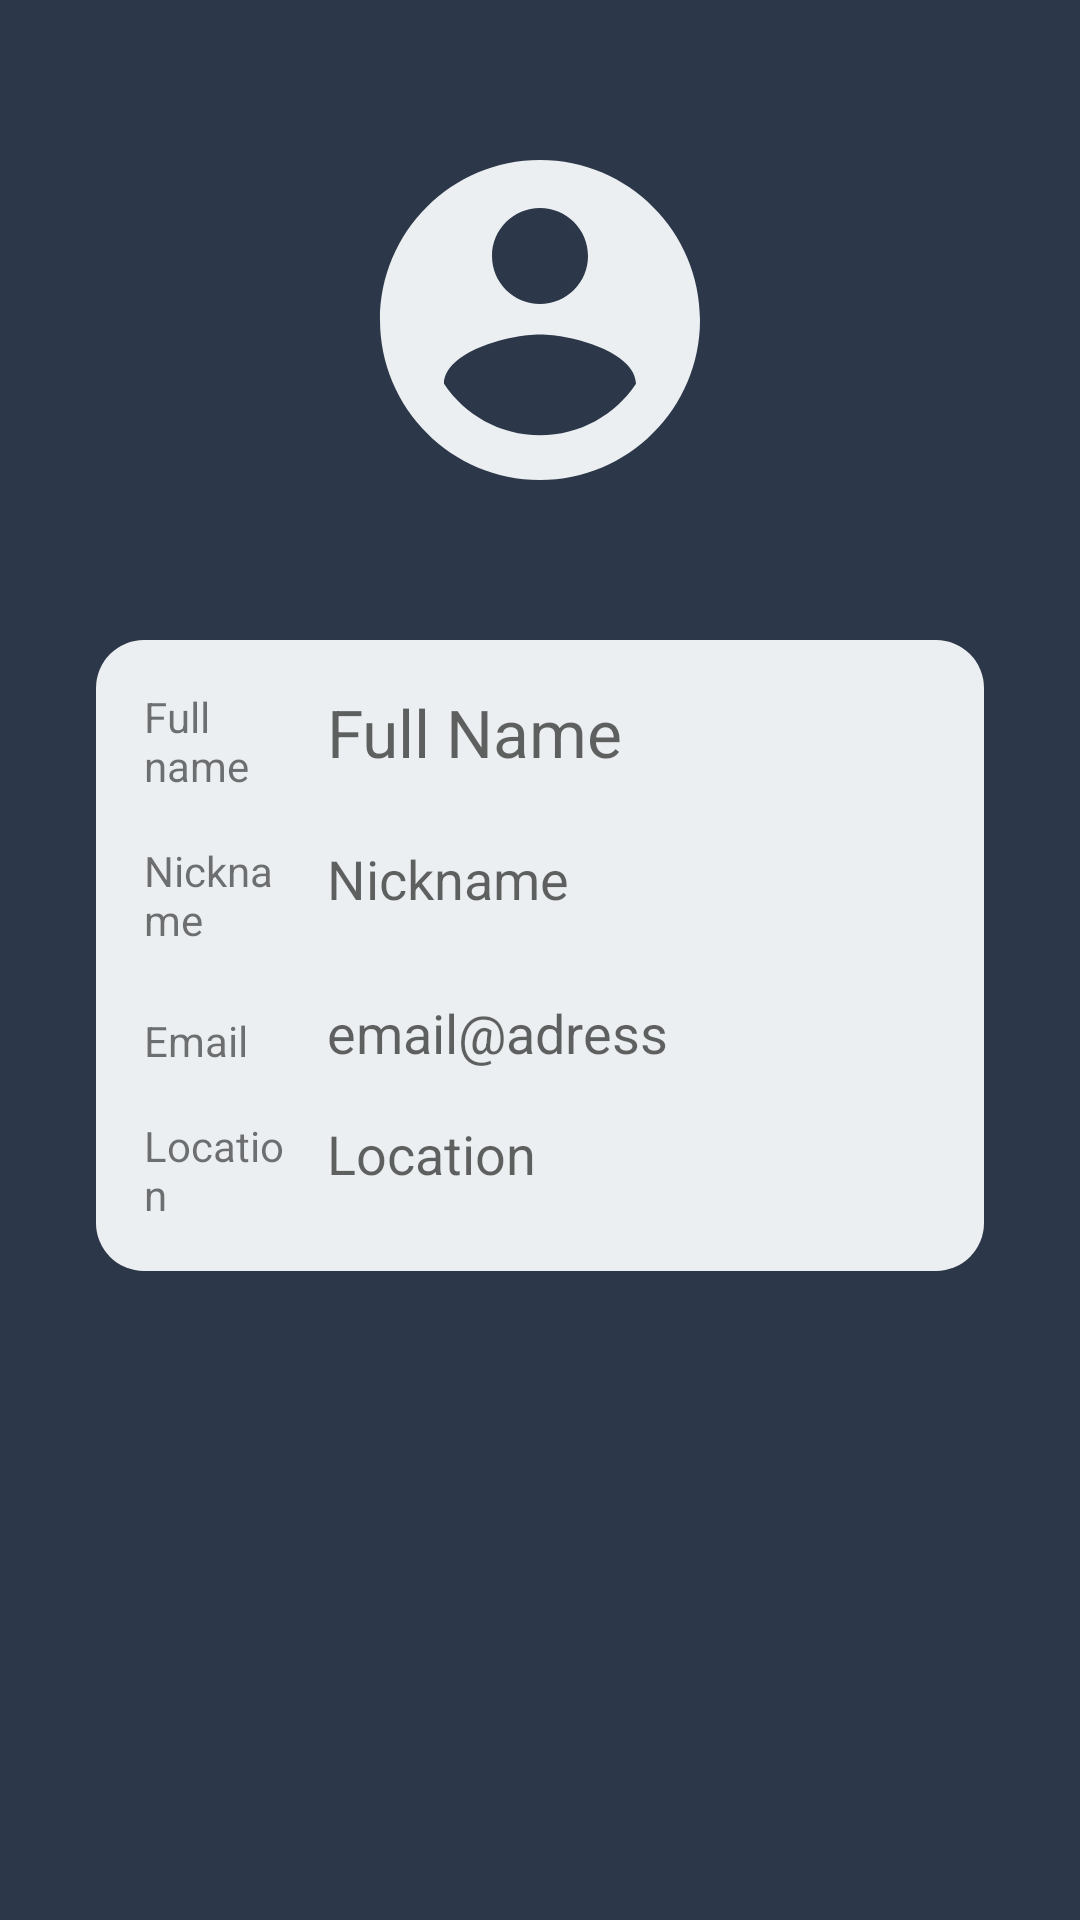

Icons on this 1080x1920 Android screen, each with its box as (x1, y1, x2, y2):
Profile Image: (380, 160, 700, 480)
